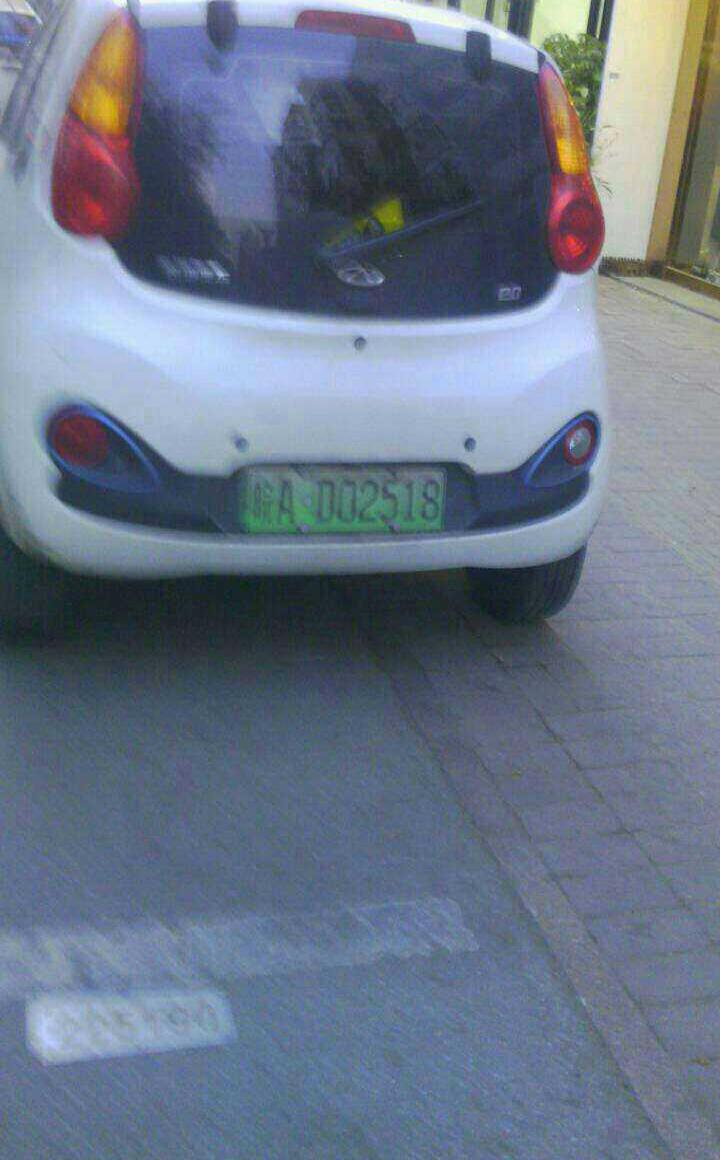car: (238, 466, 443, 541)
